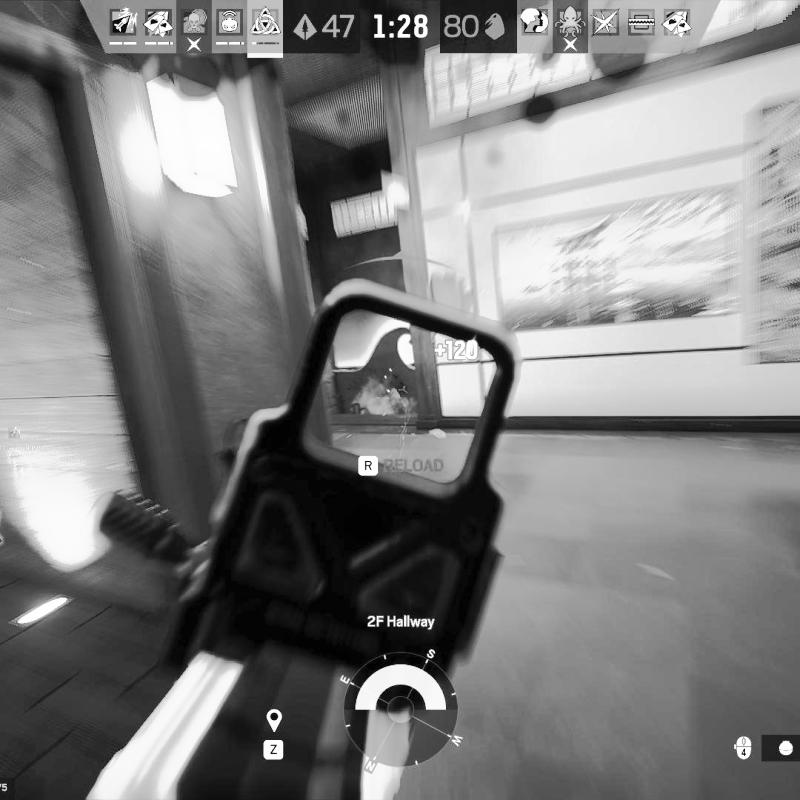Friend_label: (0, 425, 41, 454)
